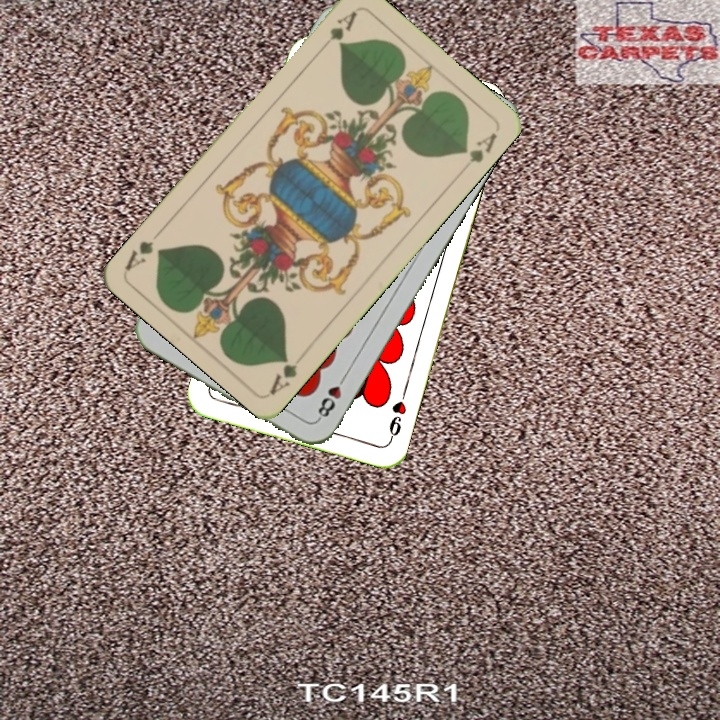GA: (314, 6, 360, 55), (266, 351, 300, 397)
H8: (313, 369, 350, 423)
H9: (385, 386, 410, 444)
